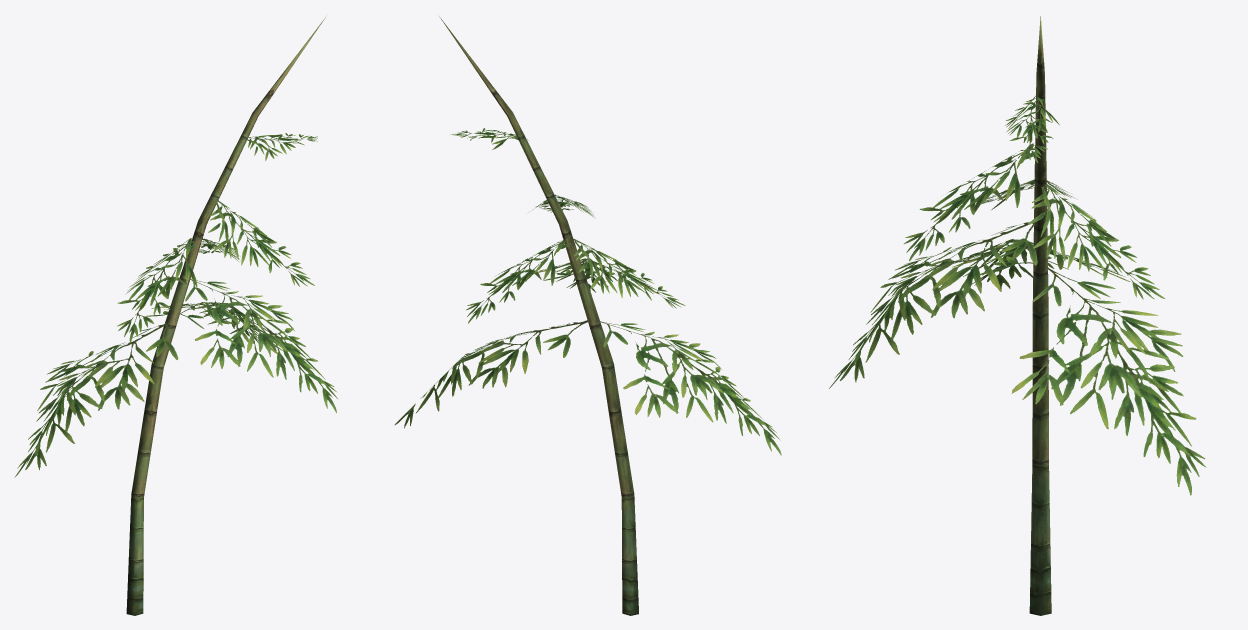
Rendered from C5_BamBoo_3.FBX.
3 views of the same model, side by side, from view 1: azimuth 30°, elevation 25°; view 2: azimuth 150°, elevation 25°; view 3: azimuth 270°, elevation 25° (orthographic). The views are drawn at different scales.
Visible parts, largest first — view 1: C5_BamBoo_3; view 2: C5_BamBoo_3; view 3: C5_BamBoo_3.
Boxes of the visible parts, bbox=[...] form: C5_BamBoo_3: bbox=[14, 17, 337, 615]; C5_BamBoo_3: bbox=[394, 16, 781, 615]; C5_BamBoo_3: bbox=[829, 16, 1205, 615].
Size of the model in its own units: 318 by 498 by 256.
